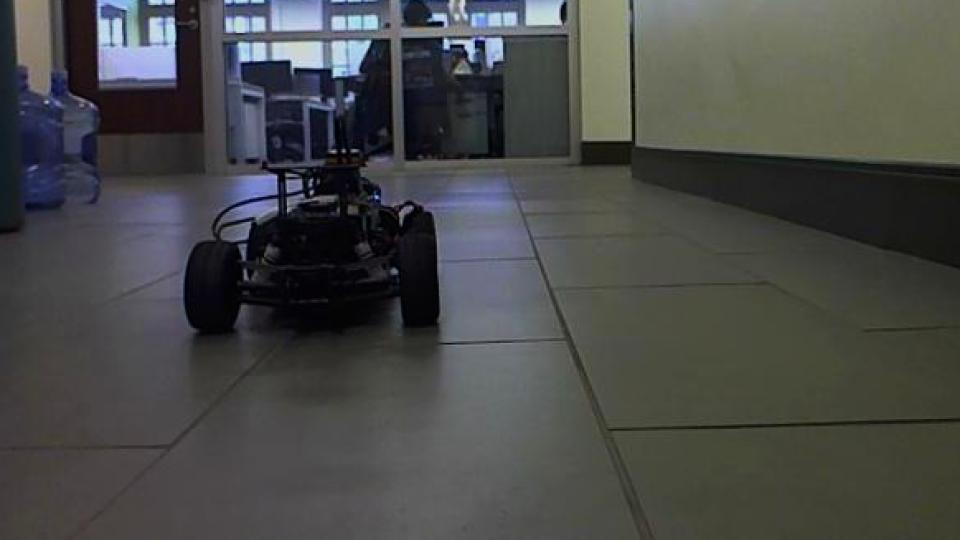car: (182, 114, 444, 339)
